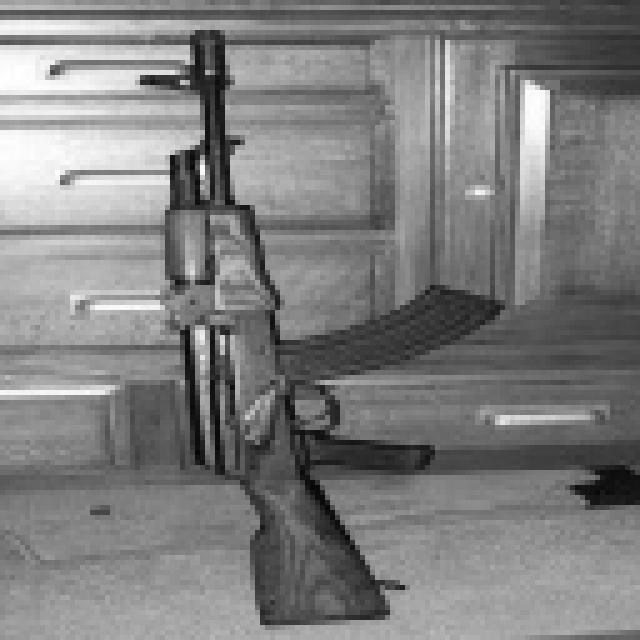Rifle: (100, 9, 530, 640)
